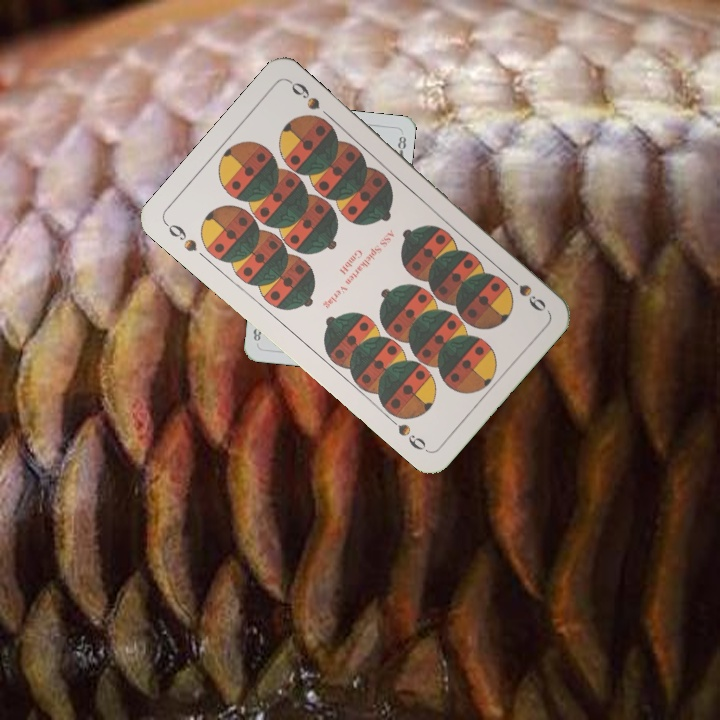S9: (501, 269, 549, 315), (161, 218, 200, 255)
